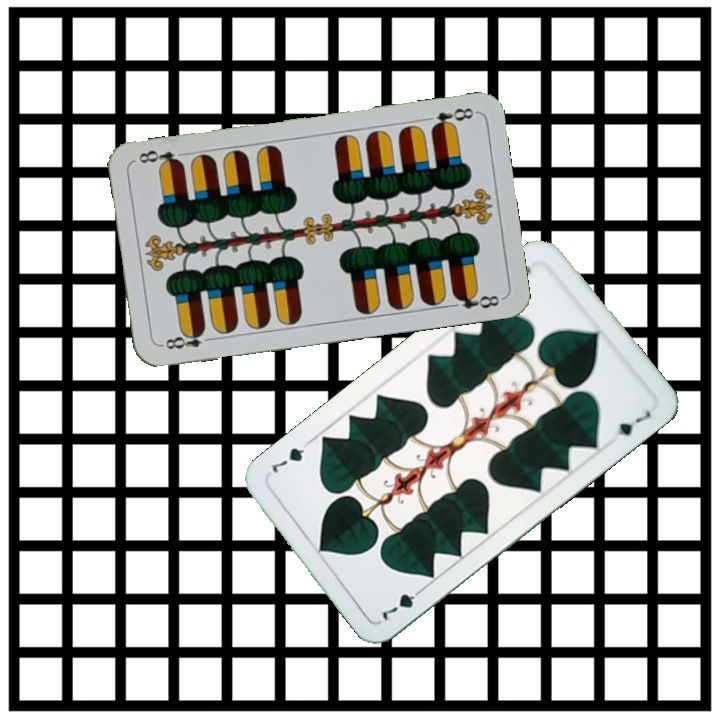E8: (158, 325, 217, 352), (426, 103, 478, 133)
G7: (378, 583, 428, 624)
